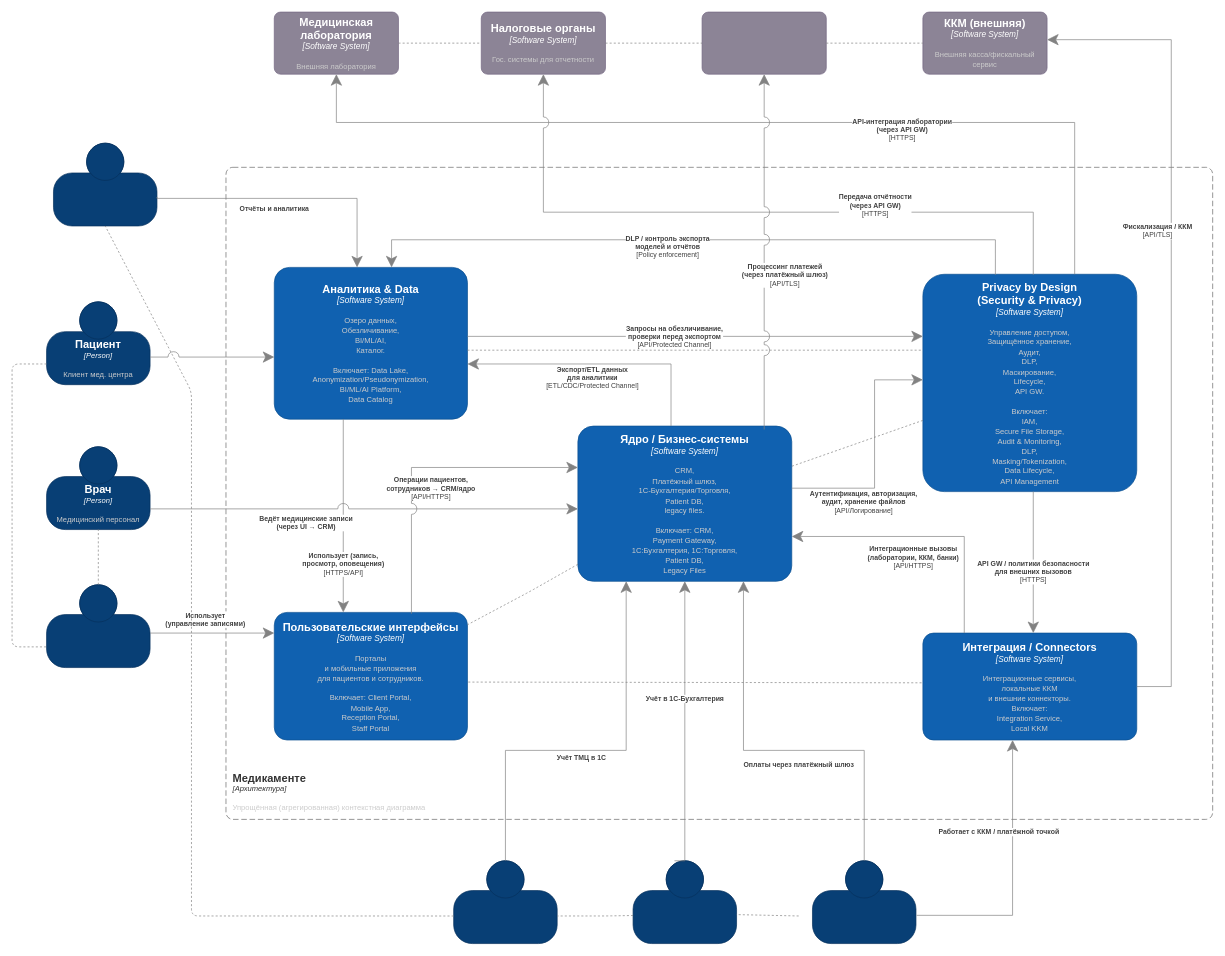
Some shapes in this 1225 by 956 pixel diagram are drawn without their labels. Here are the shapes that lost their labels. From the top down, the centre of each, then its label:
At (x=763, y=42): "Банк / Платежные системы [Software System] Процессинг платежей".
At (x=105, y=184): "Бизнес‑аналитик [Person] Отчёты и аналитика".
At (x=98, y=626): "Ресепшн [Person] Регистрация пациентов".
At (x=505, y=902): "Склад [Person] Учёт ТМЦ".
At (x=684, y=902): "Бухгалтер [Person] Финансовый учёт".
At (x=864, y=902): "Кассир [Person] Платежи".
